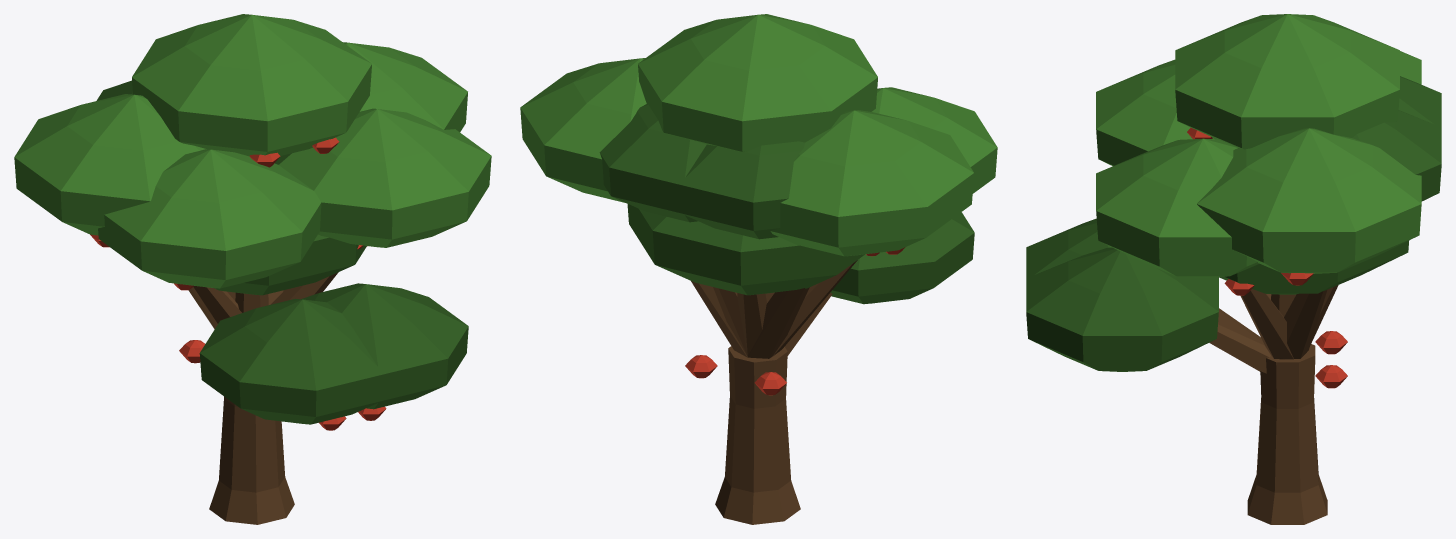
The model's file is apple_tree.gltf.
The picture shows the model from 3 angles, left to right: view 1: azimuth 30°, elevation 25°; view 2: azimuth 150°, elevation 25°; view 3: azimuth 270°, elevation 25°; orthographic projection.
Visible parts, largest first — view 1: apple_tree; view 2: apple_tree; view 3: apple_tree.
Boxes of the visible parts, bbox=[...] form: apple_tree: bbox=[14, 14, 491, 524]; apple_tree: bbox=[520, 14, 997, 524]; apple_tree: bbox=[1026, 14, 1441, 524].
Bounding box in the file's own units: 3.42 × 3.95 × 3.01.
